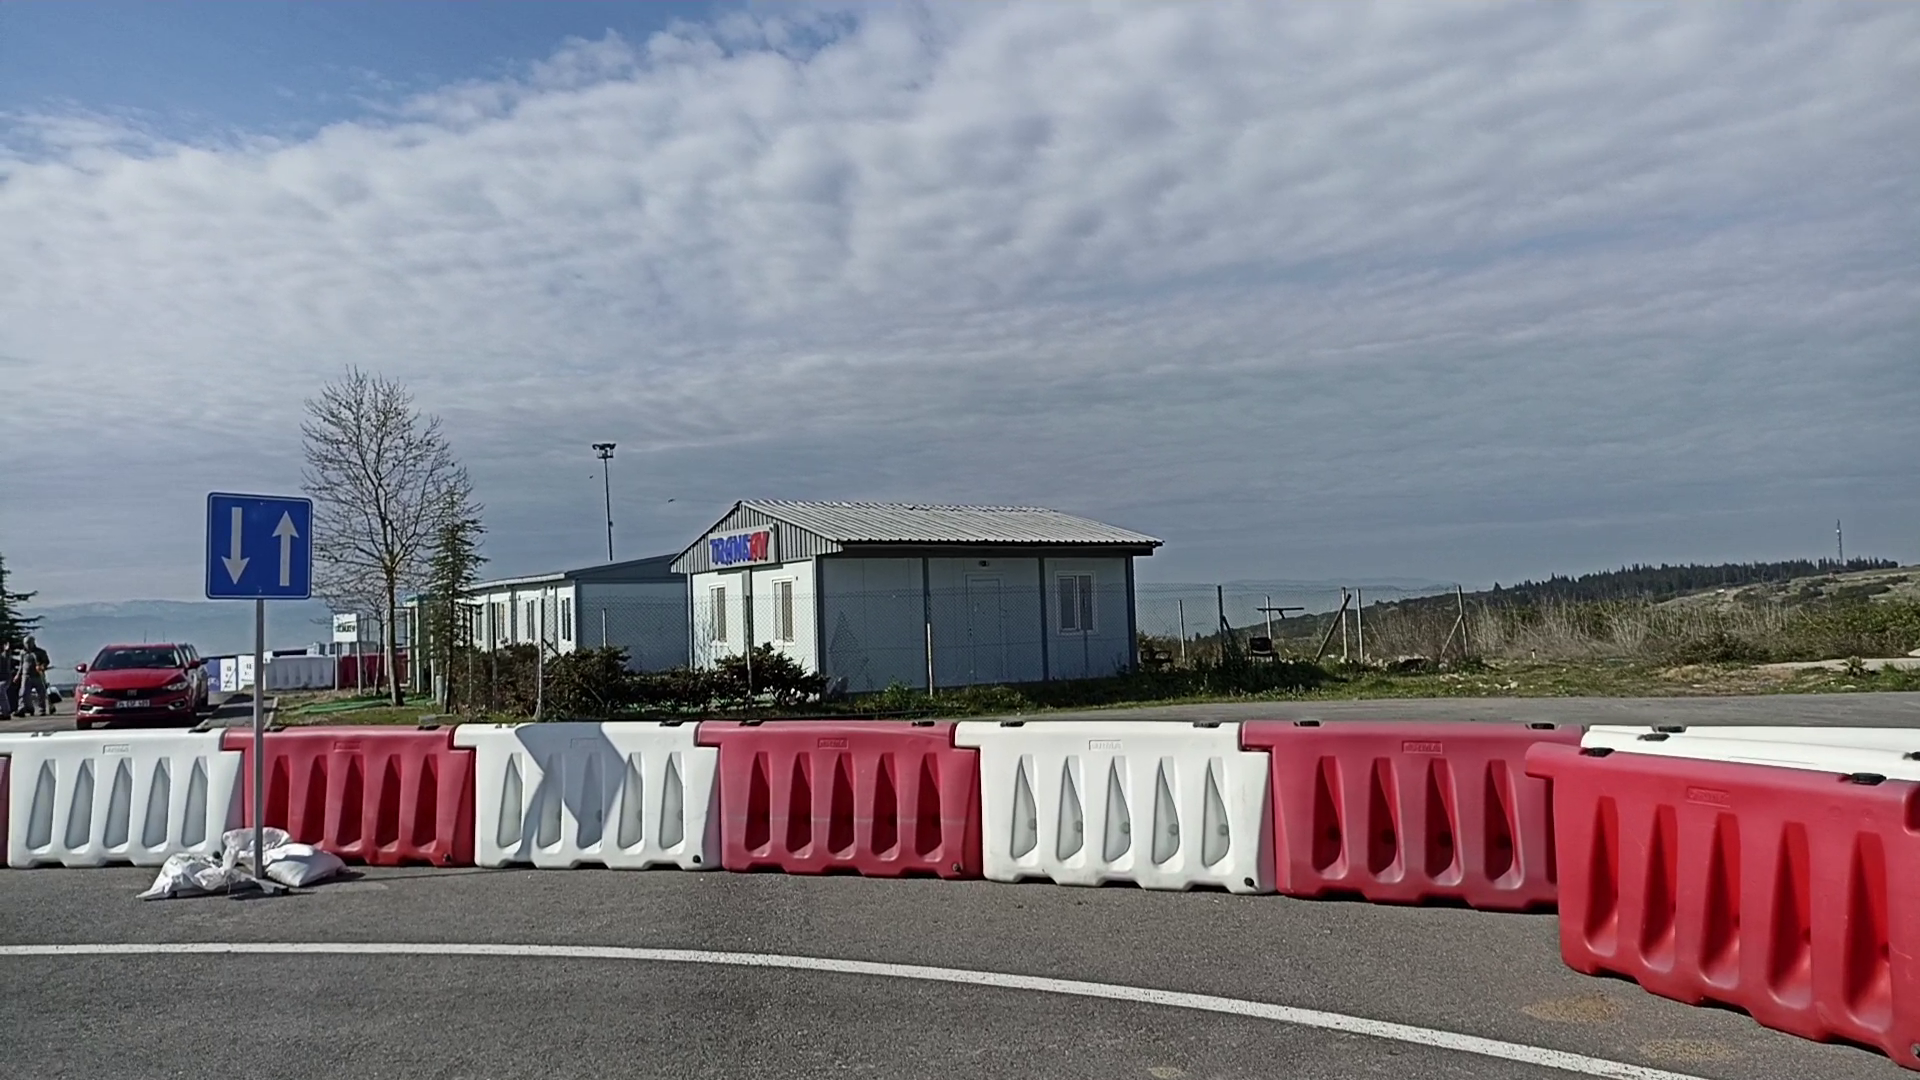oneway: (202, 489, 314, 603)
